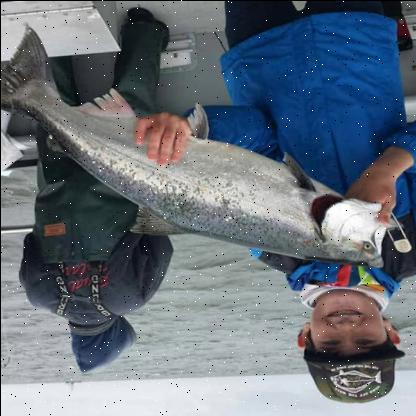fish: (1, 23, 407, 268)
